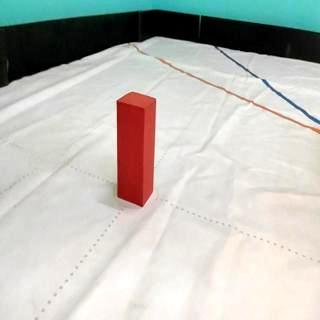redbox: (114, 90, 157, 208)
